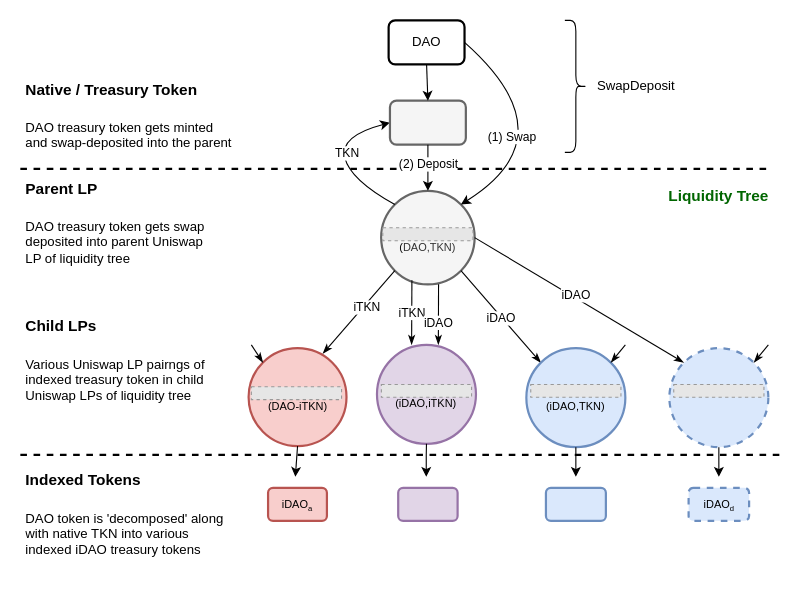
Some shapes in this 803 by 594 pixel diagram are drawn without their labels. Grey dashed boxes stand in for pictures. The shapes that lost their labels are listed below. From the top down, each one's centre as x and y in pixels, then its label:
At pixel 427 122: "DAO,TKN".
At pixel 718 397: "(iDAO,DAO)".
At pixel 427 503: "iDAO b".
At pixel 575 503: "iDAO c".
